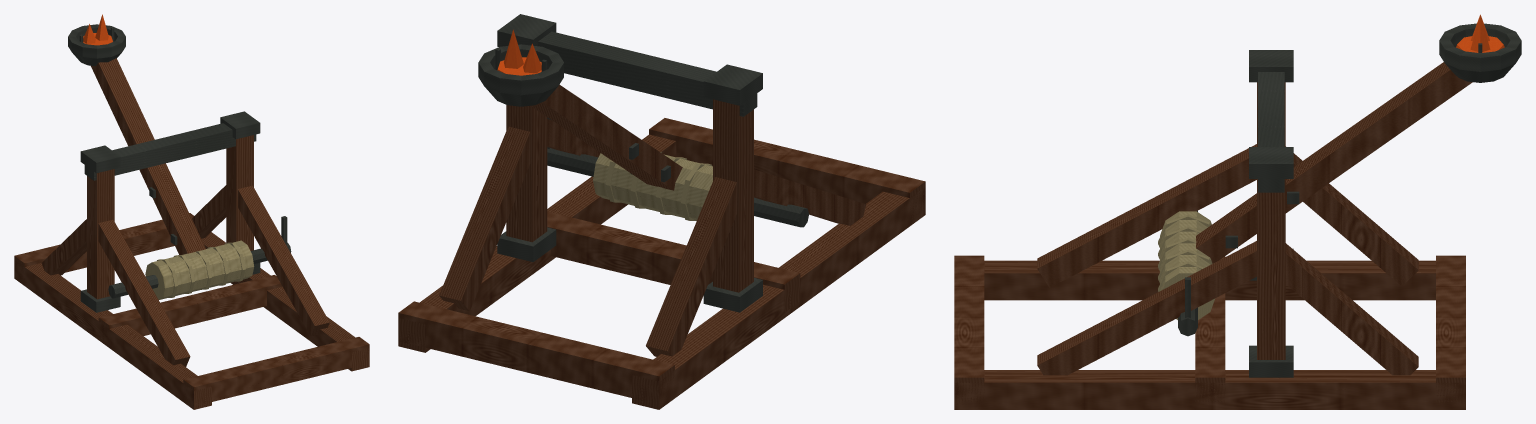
Rendered from fire-catapult.glb.
3 renders of one model, left to right at view 1: azimuth 30°, elevation 25°; view 2: azimuth 150°, elevation 25°; view 3: azimuth 270°, elevation 25°, orthographic. The views are drawn at different scales.
Visible parts, largest first — view 1: turntable, frame, arm; view 2: turntable, frame, arm; view 3: frame, turntable, arm.
Boxes of the visible parts, x1,y1,x2,y2 form: turntable: (41,111,329,366); frame: (14,213,369,409); arm: (68,14,205,254); turntable: (439,14,866,356); frame: (398,118,925,409); arm: (478,29,682,190); frame: (954,255,1465,409); turntable: (1037,50,1418,377); arm: (1196,14,1521,263).
Bounding box in the file's own units: 2.6 × 3.36 × 5.1.
Materials: 1 (1 with a texture image).
